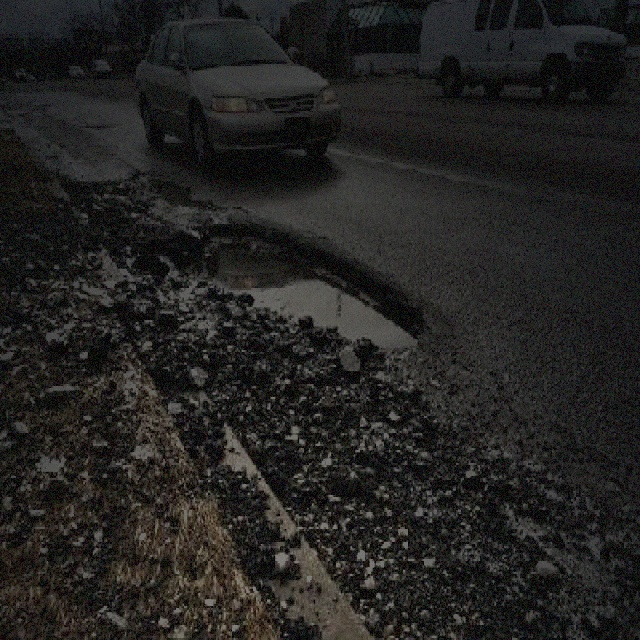pothole: (179, 216, 427, 356), (143, 171, 215, 213)
